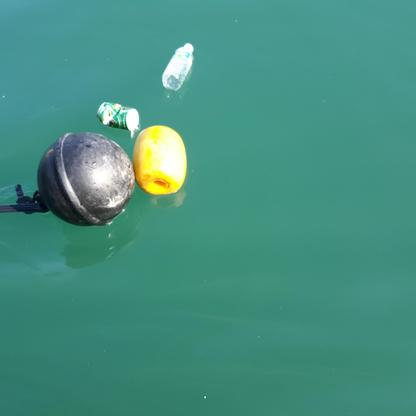can: (98, 102, 140, 131)
plastic bottle: (159, 42, 194, 89)
